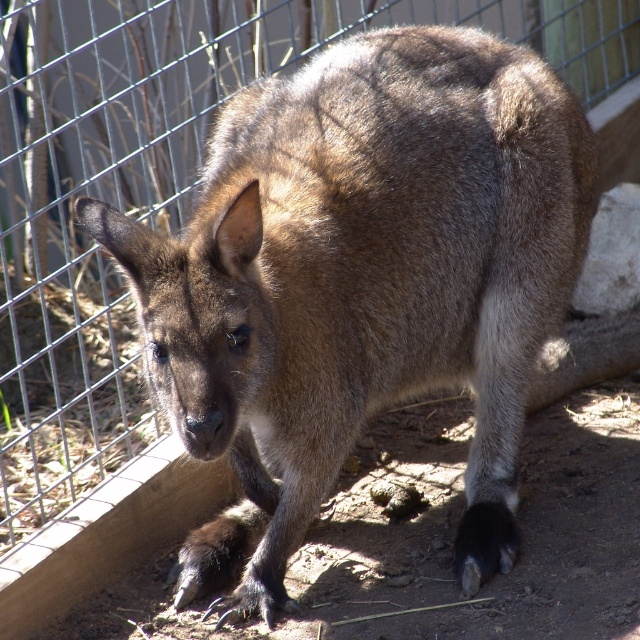Kangaroo: (70, 22, 602, 633)
